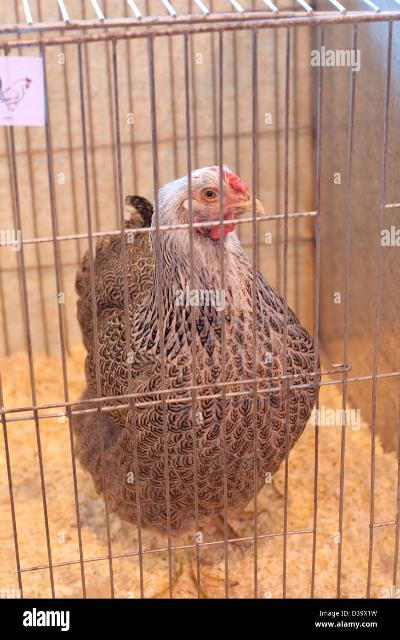Chicken: (71, 168, 320, 596)
